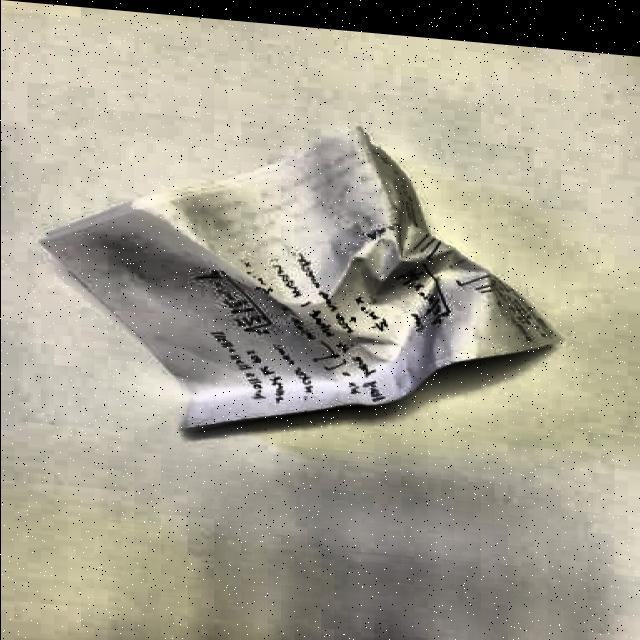paper: (38, 97, 562, 467)
